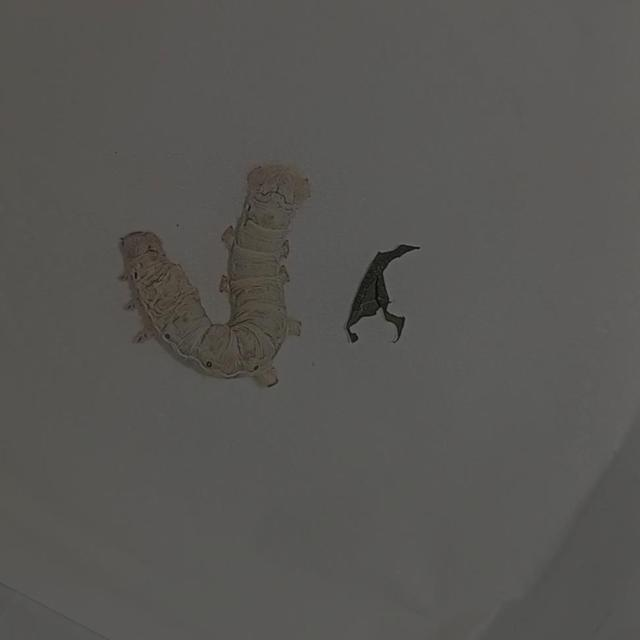Healthy: (74, 130, 383, 414)
